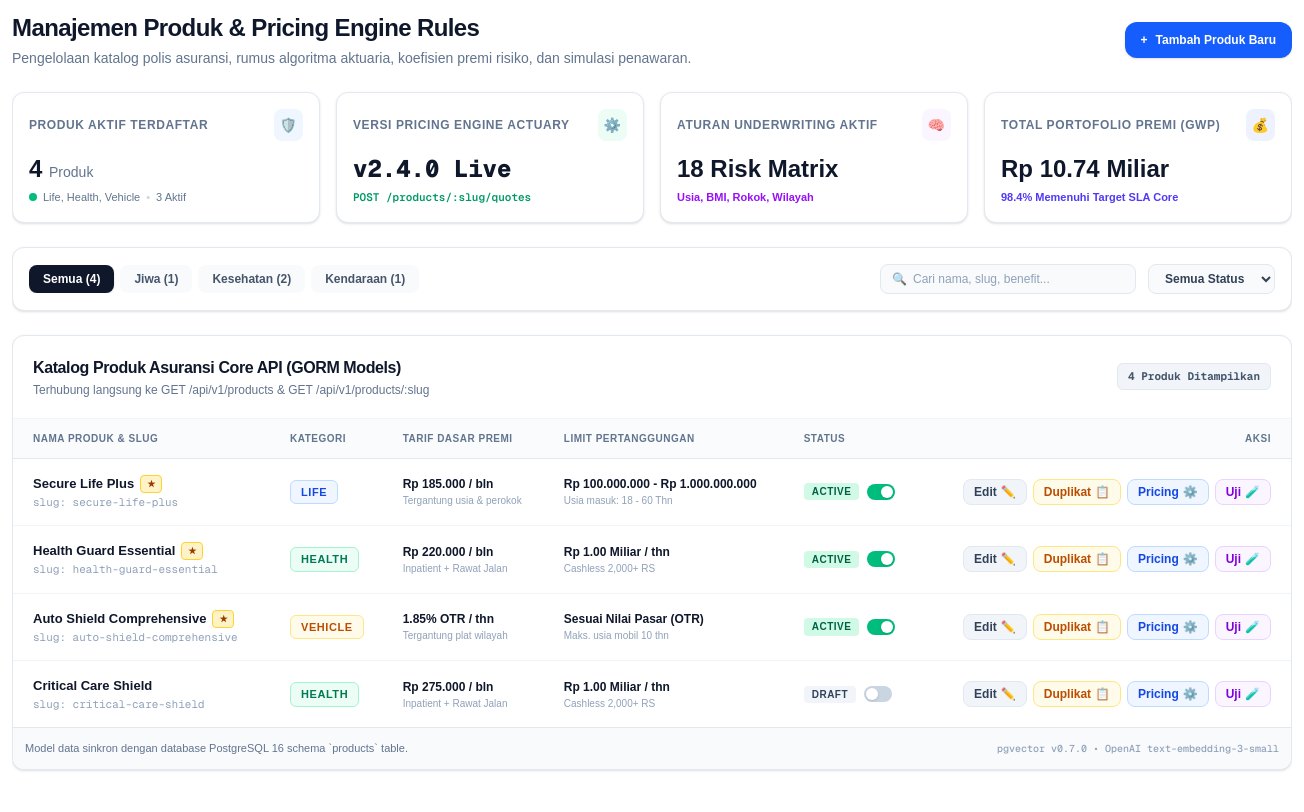
Test: ProductsPage & ProductManagementWorkbench › should filter products by category tab and status dropdown
Note: Filter category to Jiwa
Click the button "Jiwa (1)" at (156, 278), box [120,264,192,292]
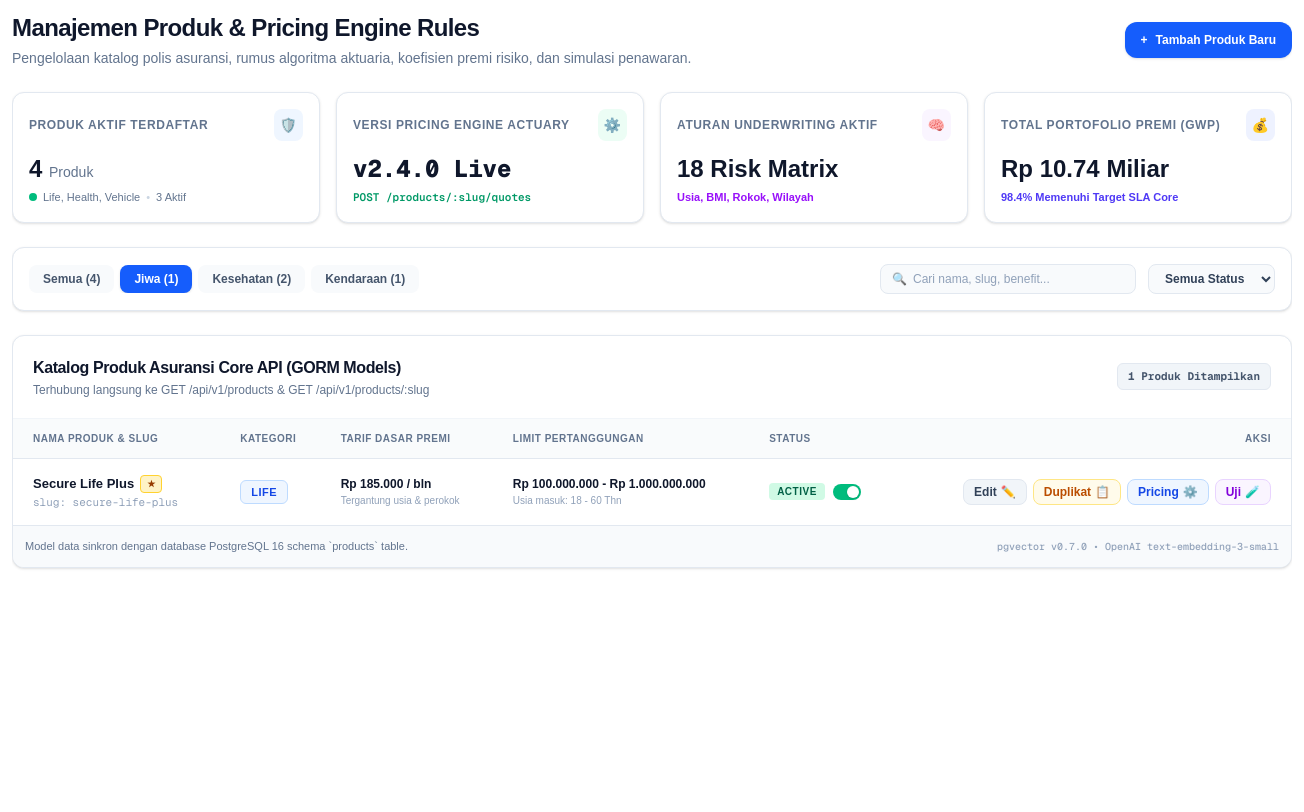
expect the text "Secure Life Plus" is shown: met, box [33,475,134,492]
expect the text "Auto Shield Comprehensive" is gone: met
Note: Filter category to Kendaraan
Click the button "Kendaraan (1)" at (365, 278), box [311,264,419,292]
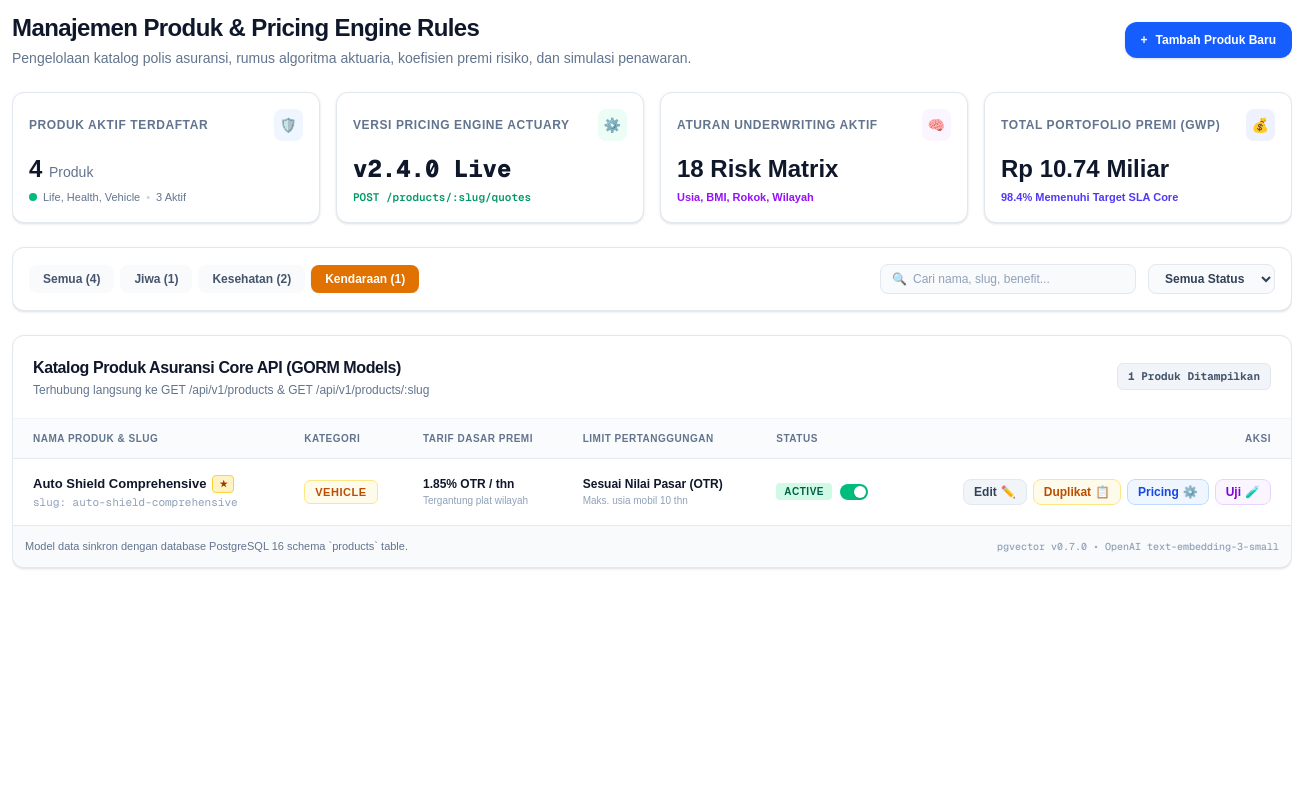
expect the text "Auto Shield Comprehensive" is shown: met, box [33,475,206,492]
expect the text "Secure Life Plus" is gone: met
Note: Reset to Semua
Click the button "Semua (4)" at (72, 278), box [29,264,114,292]
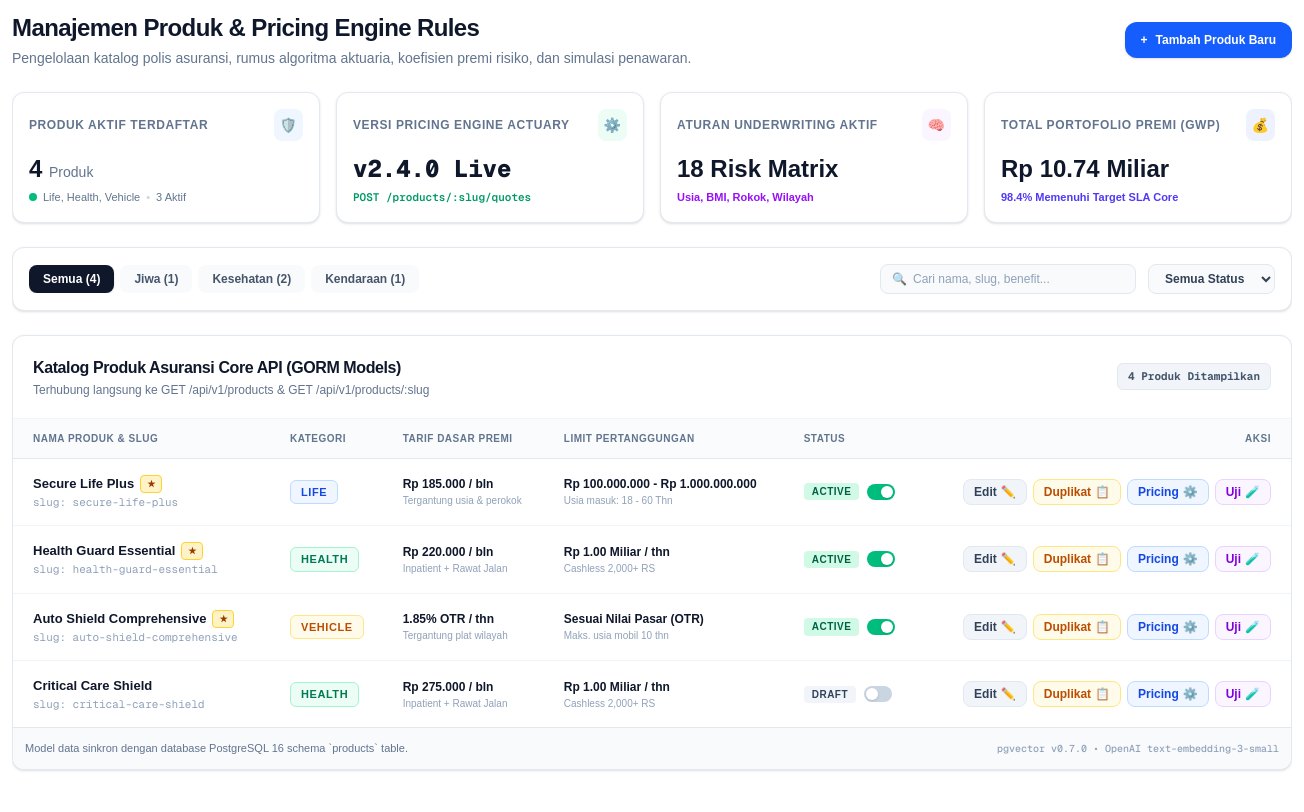
Note: Status filter dropdown
Select "Hanya Draft" in the dropdown named "Filter status produk" at (1212, 278), box [1148,264,1275,294]
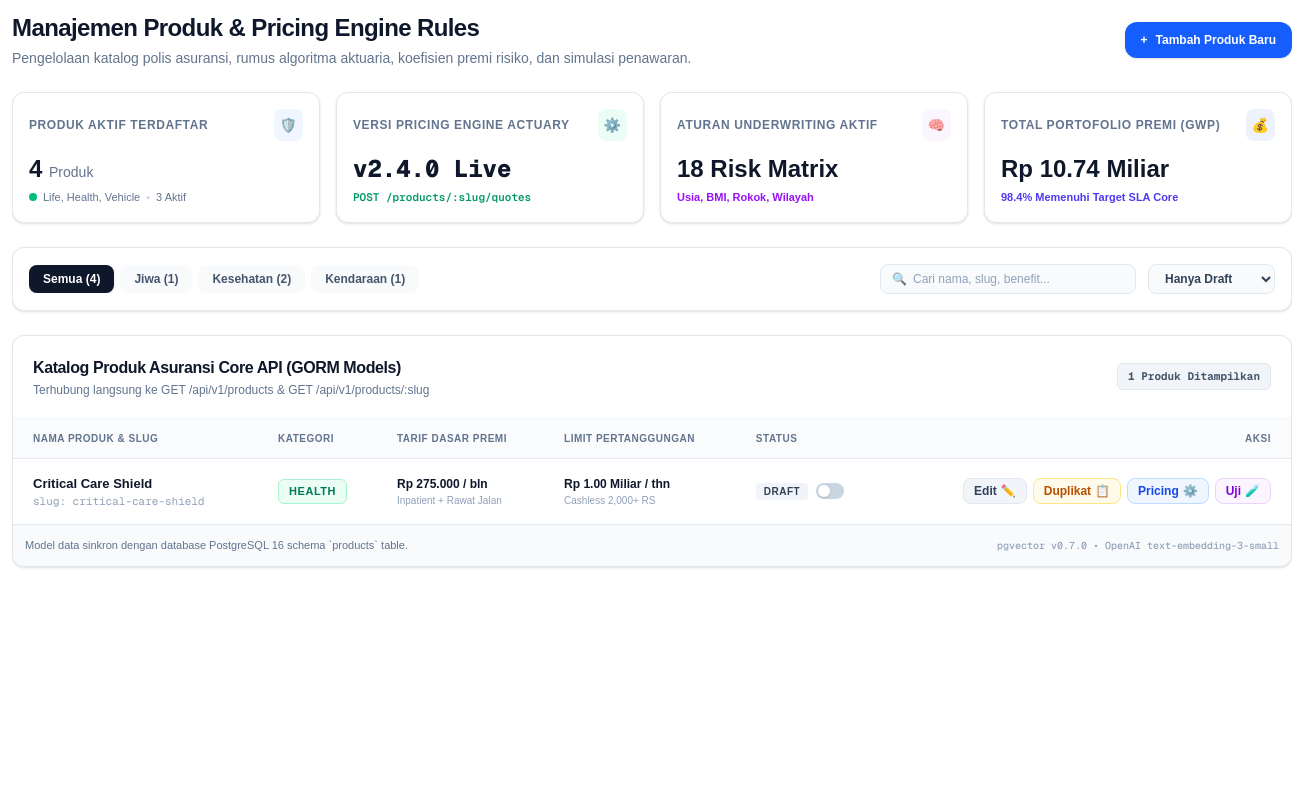
expect the text "Critical Care Shield" is shown: met, box [33,474,152,492]
expect the text "Secure Life Plus" is gone: met
Select "Semua Status" in the dropdown named "Filter status produk" at (1212, 278), box [1148,264,1275,294]
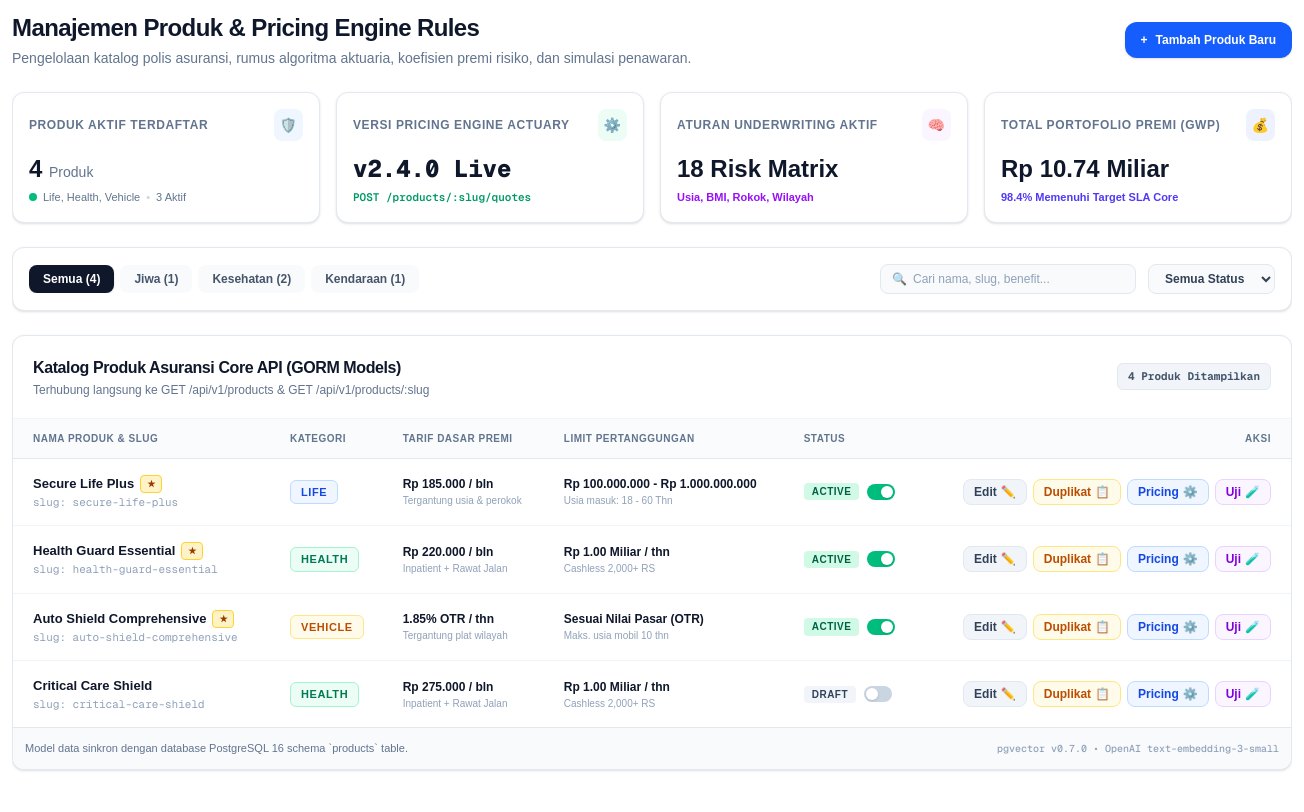
expect the text "Secure Life Plus" is shown: met, box [33,475,134,492]
